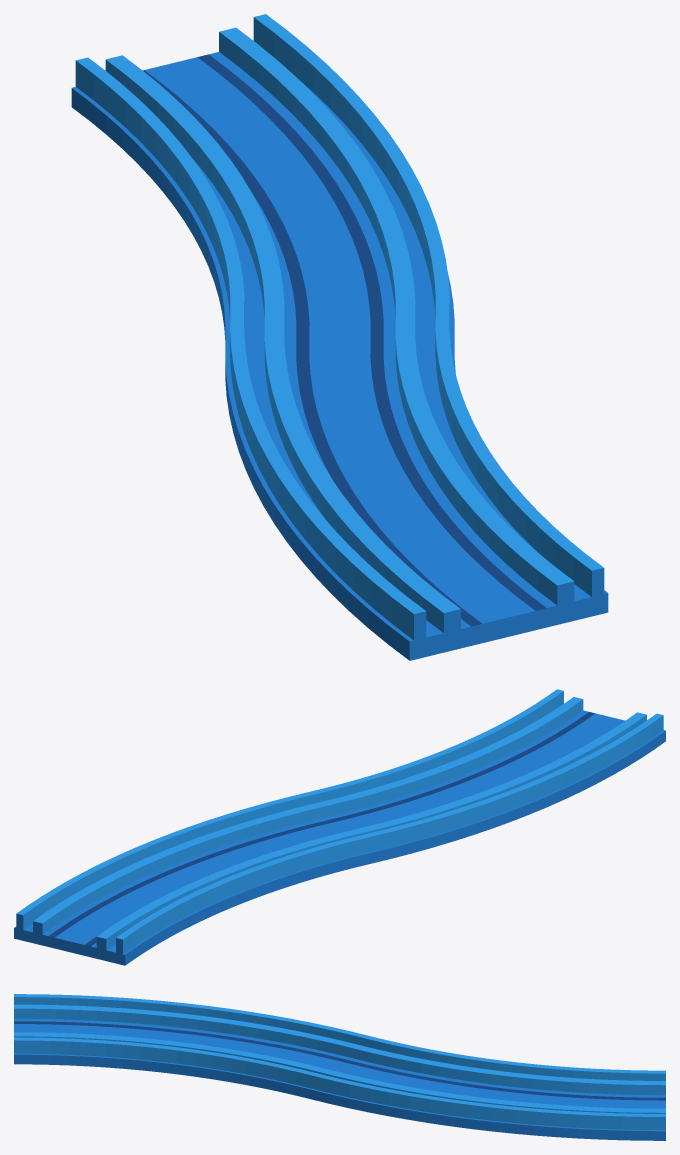
Rendered from Track_S_Right.fbx.
3 views of the same model, one above another, from view 1: azimuth 30°, elevation 25°; view 2: azimuth 150°, elevation 25°; view 3: azimuth 270°, elevation 25° (orthographic). The views are drawn at different scales.
Visible parts, largest first — view 1: Molded blue rail; view 2: Molded blue rail; view 3: Molded blue rail.
Part boxes in pixels (left/top/right/bottom): Molded blue rail: left=71, top=14, right=608, bottom=660; Molded blue rail: left=14, top=689, right=665, bottom=965; Molded blue rail: left=14, top=994, right=665, bottom=1140.
Size of the model in its own units: 272 by 23.21 by 600.
